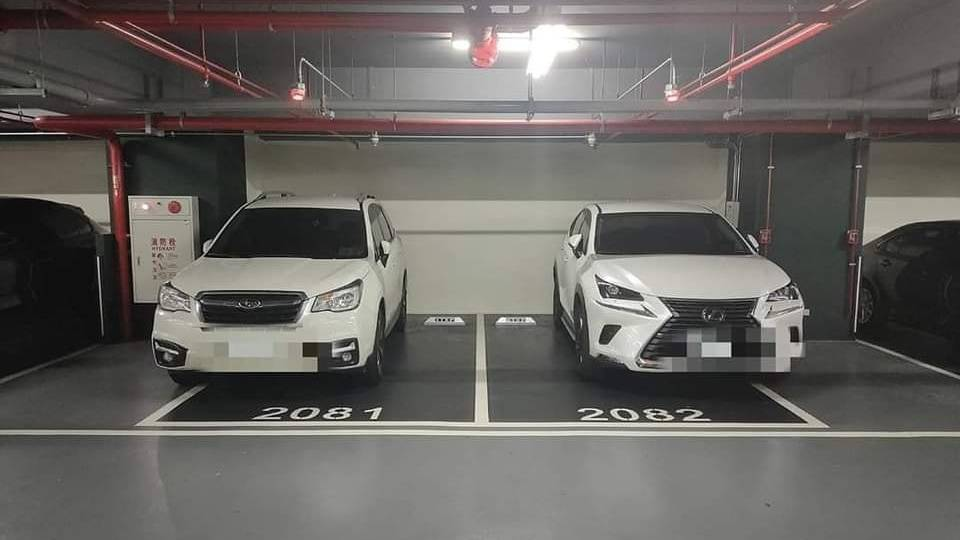car: (144, 172, 413, 393), (550, 197, 811, 388), (857, 209, 960, 360)
